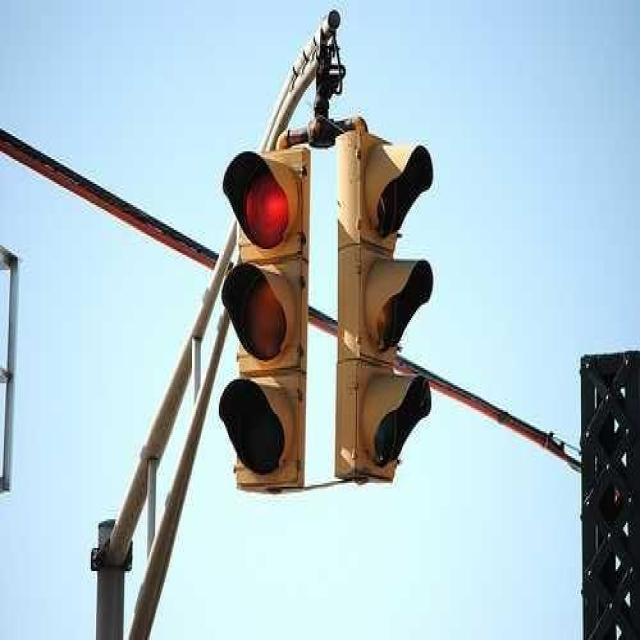Traffic Light -Red-: (219, 143, 309, 500)
Traffic Light -Yellow-: (325, 118, 437, 493)
